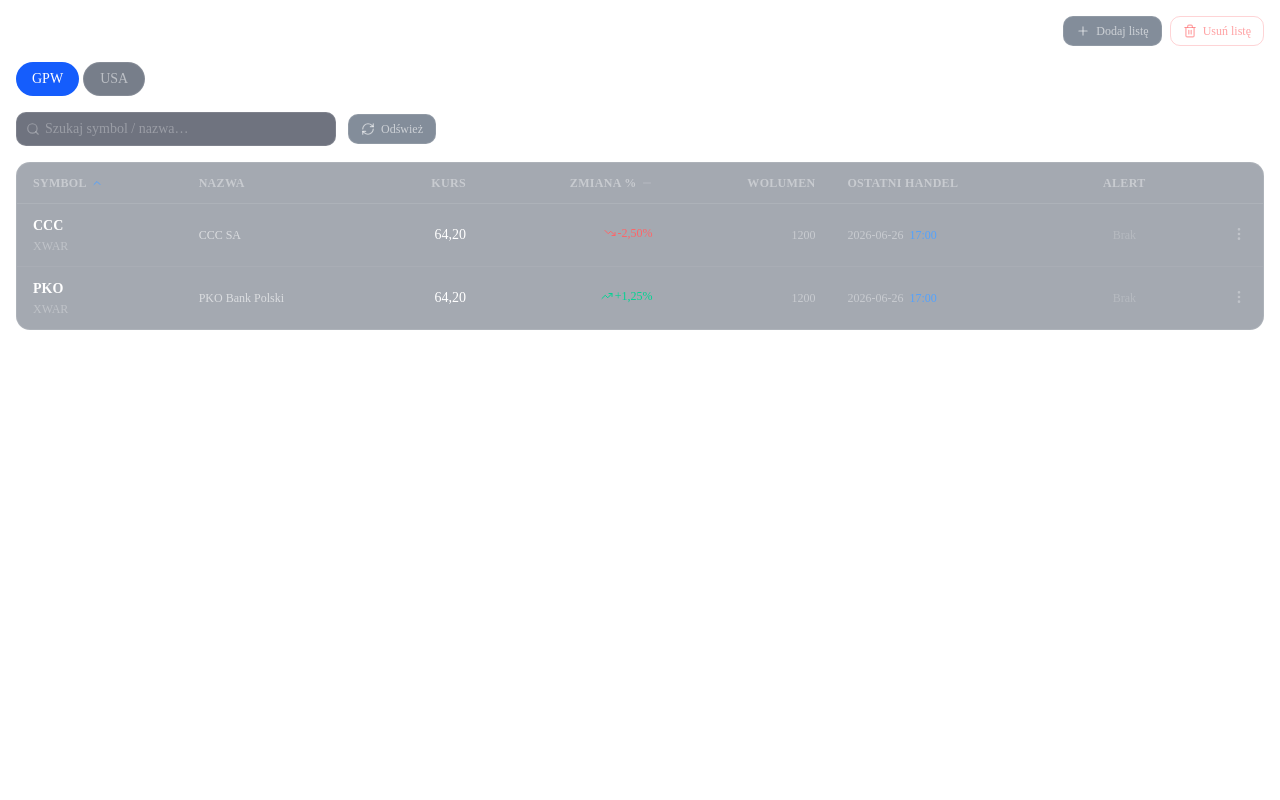
Test case: FavoritesPage › validates and creates a new favorite list without losing existing lists
Click the button "Dodaj listę" at (1112, 31), box top-left (1063, 16), bottom-right (1162, 46)
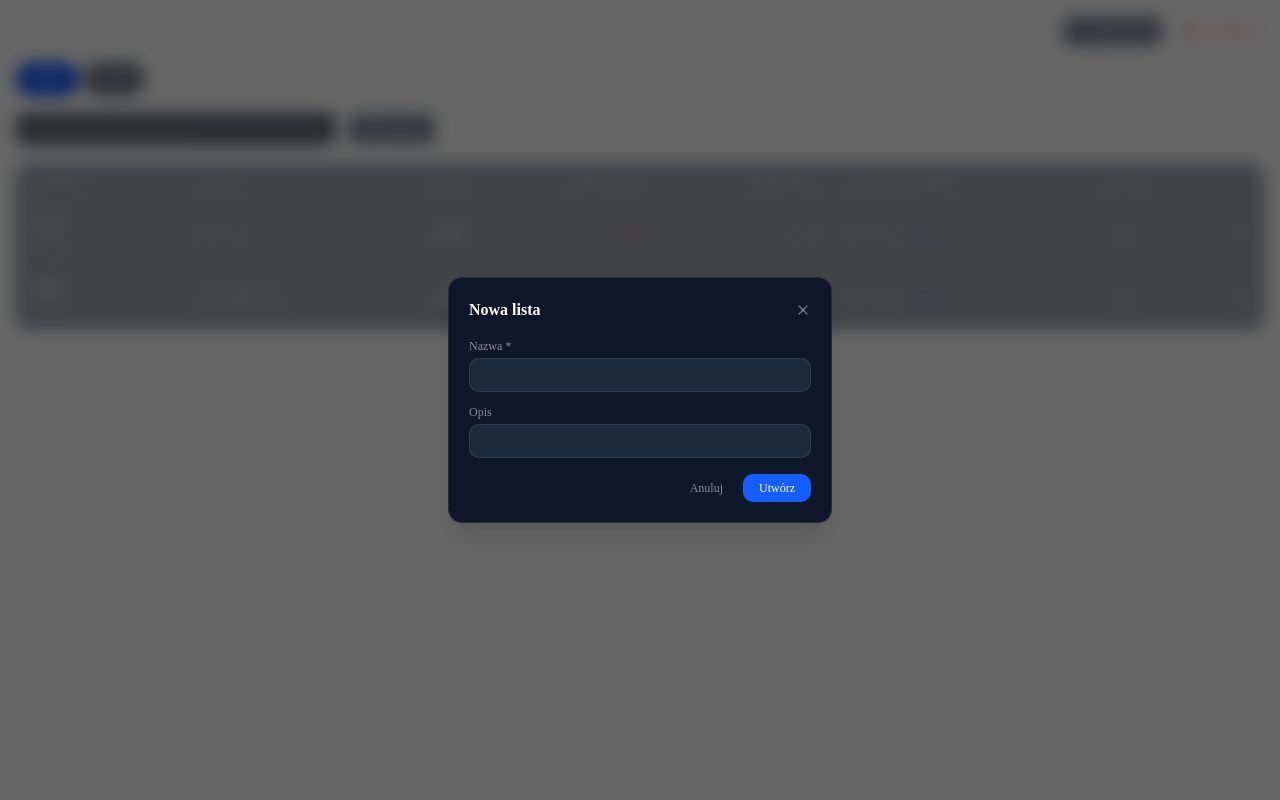
Click the button "Utwórz" at (777, 488), box top-left (743, 474), bottom-right (811, 502)
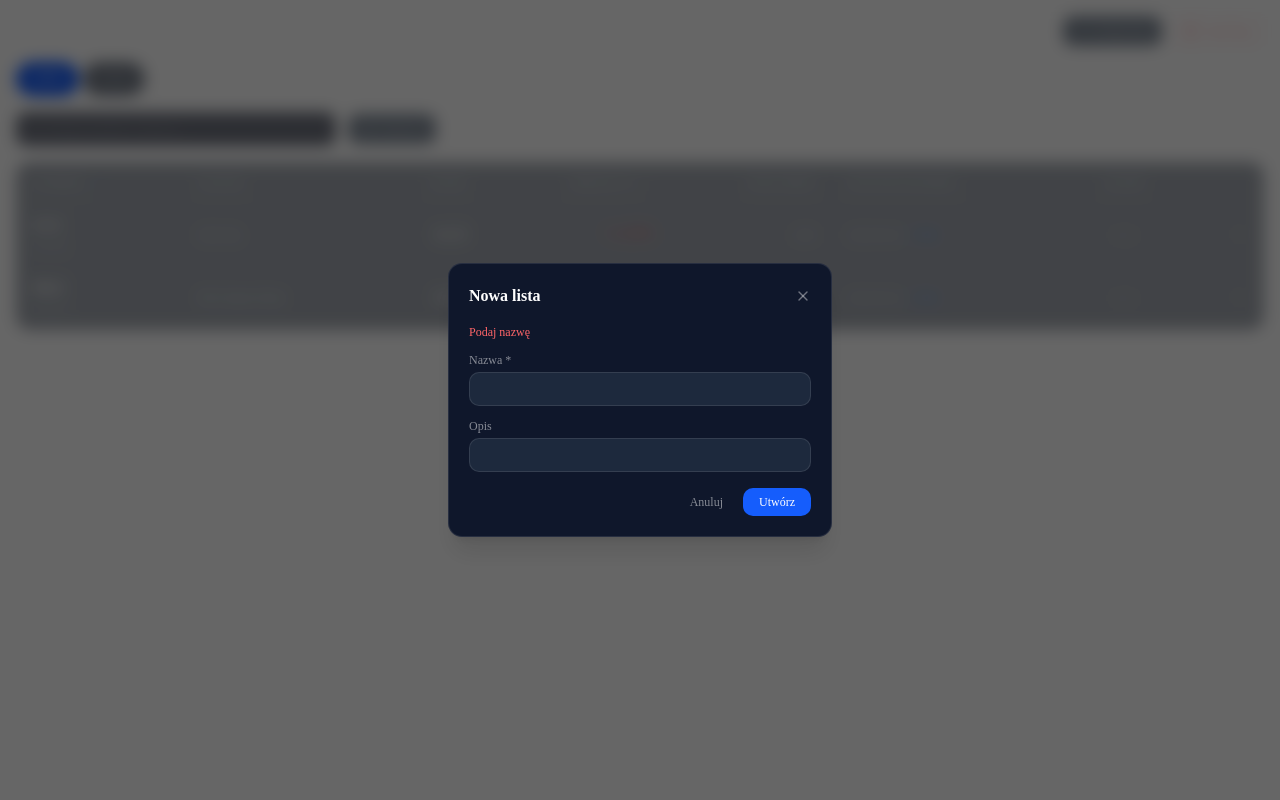
Expected: the text "Podaj nazwę" is shown, top-left (469, 325), bottom-right (530, 339)
Type "Dywidendy" into the field labelled "Nazwa *" at (640, 389), box top-left (469, 372), bottom-right (811, 406)
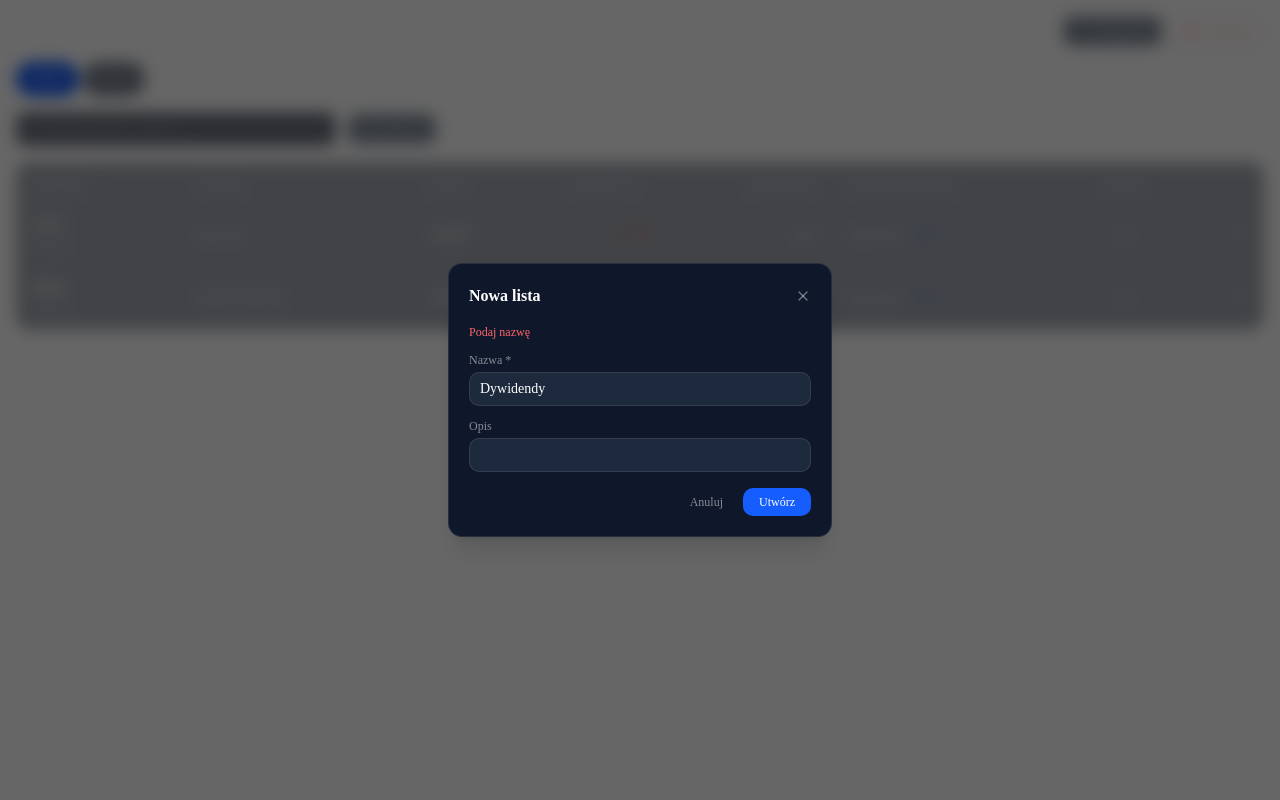
Type "Spolki dywidendowe" into the field labelled "Opis" at (640, 455), box top-left (469, 438), bottom-right (811, 472)
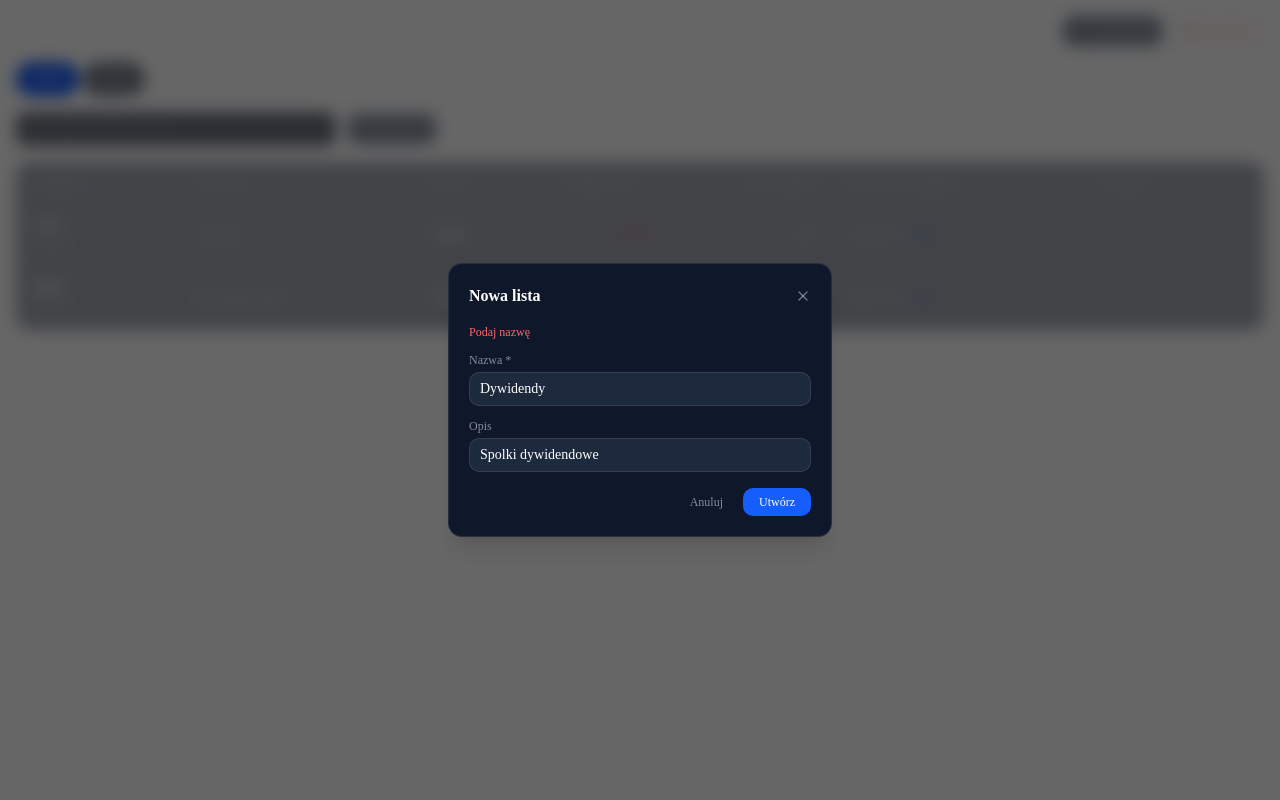
Click the button "Utwórz" at (777, 502), box top-left (743, 488), bottom-right (811, 516)
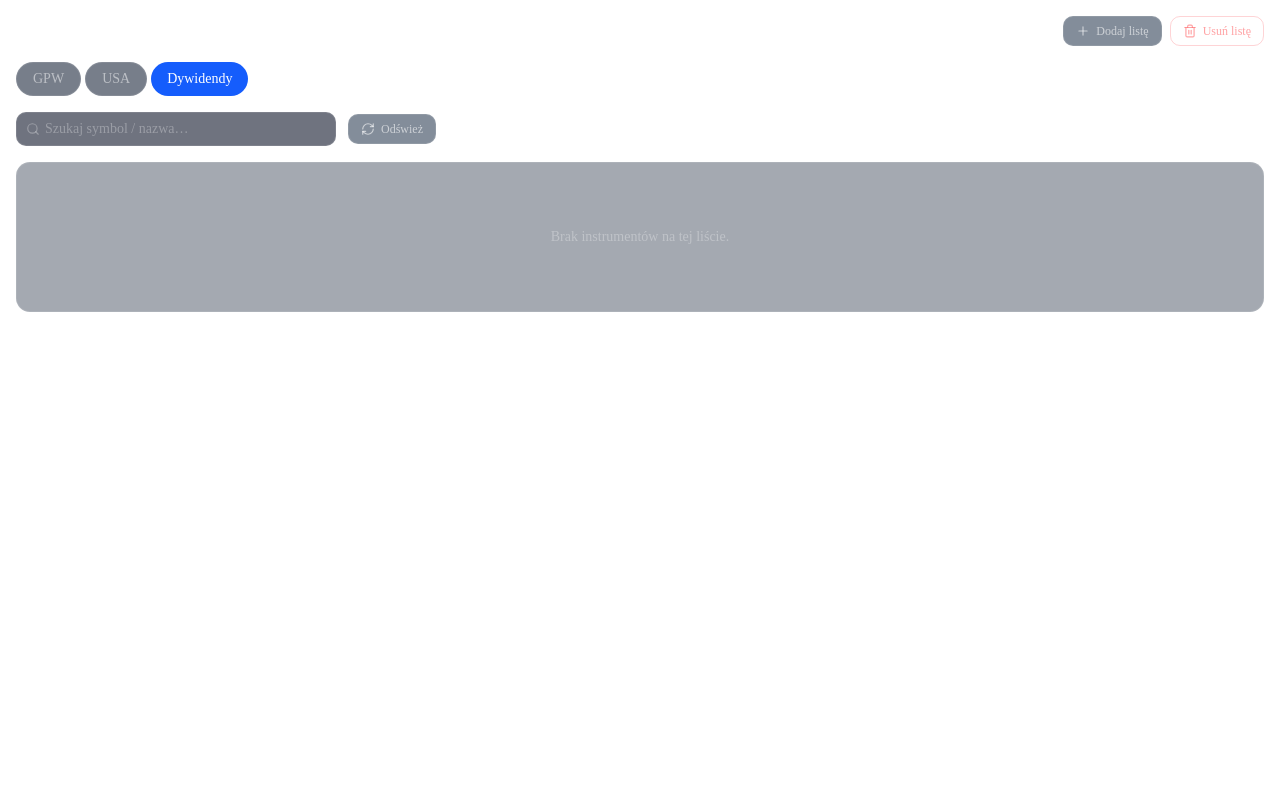
Expected: the button "GPW" is shown, top-left (16, 62), bottom-right (81, 96)
Expected: the button "Dywidendy" is shown, top-left (151, 62), bottom-right (248, 96)
